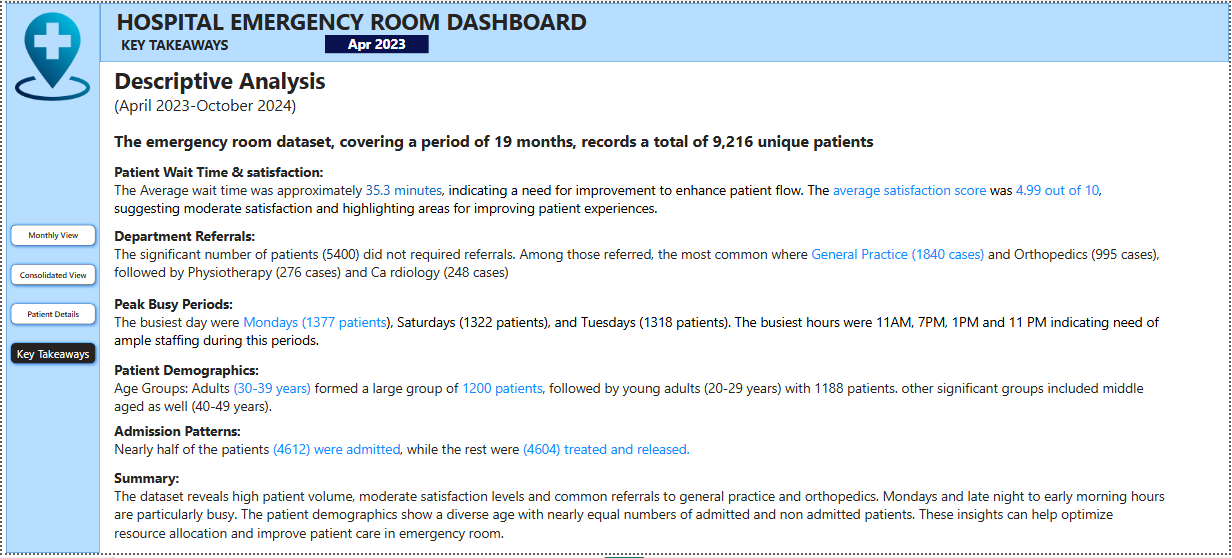

The page's visual inventory and layout, read from the dashboard file:
{"tool":"powerbi","page":{"name":"Key Takeaways","canvas":[2900,1300],"ordinal":3},"visuals":[{"type":"shape","box":[10.4,0,221,1300],"z":0},{"type":"shape","box":[231.6,0,2668.5,139.5],"z":1000},{"type":"textbox","box":[231.4,0,1189.1,91.5],"z":2000},{"type":"textbox","box":[277.1,69.9,379.3,64.6],"z":3000},{"type":"card","fields":{"Values":["Min(Date Table.Month & Year)"]},"box":[764,75.3,244.8,43],"z":4000},{"type":"image","box":[9.7,16.2,219.8,219.8],"z":5000},{"type":"textbox","box":[259.5,140.5,2640.5,154.1],"z":6000},{"type":"textbox","box":[259.5,294.6,2640.5,73],"z":7000},{"type":"textbox","box":[259.5,371.2,2494.6,148.6],"z":8000},{"type":"textbox","box":[259.5,523.4,2494.6,156.8],"z":9000},{"type":"textbox","box":[259.5,683.8,2494.6,151.4],"z":10000},{"type":"textbox","box":[259.5,838.7,2494.6,140.5],"z":10001},{"type":"textbox","box":[259.5,982.9,2494.6,108.1],"z":10002},{"type":"textbox","box":[259.5,1094.6,2494.6,205.4],"z":10003},{"type":"pageNavigator","box":[10.8,516.2,218.9,348.6],"z":10004}]}

Visuals, with their boxes in screenshot pixels (x1, y1, x2, y2), scaled from the page's 2900x1300 canvas onto the 1232x558 screenshot:
shape: [4,0,98,557]
shape: [98,0,1231,60]
textbox: [98,0,603,39]
textbox: [118,30,279,58]
card - Min(Date Table.Month & Year): [325,32,429,51]
image: [4,7,97,101]
textbox: [110,60,1231,126]
textbox: [110,126,1231,158]
textbox: [110,159,1170,223]
textbox: [110,225,1170,292]
textbox: [110,294,1170,358]
textbox: [110,360,1170,420]
textbox: [110,422,1170,468]
textbox: [110,470,1170,557]
pageNavigator: [5,222,98,371]
